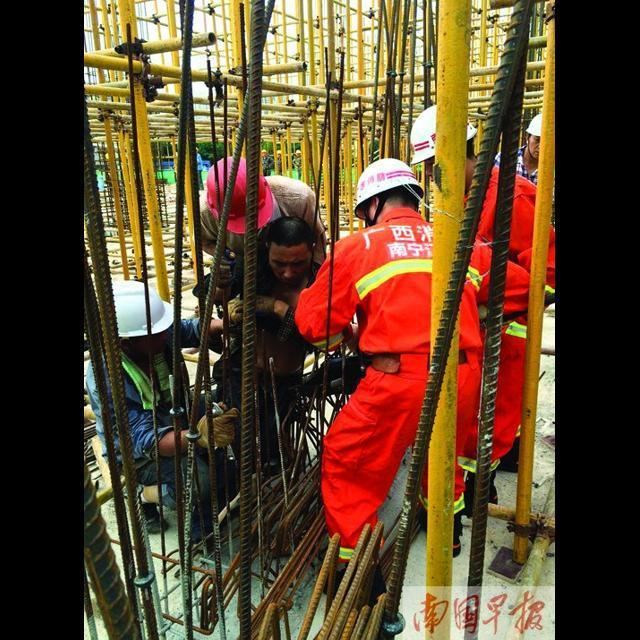helmet: (332, 138, 428, 230), (83, 258, 183, 346), (398, 94, 492, 172), (200, 150, 277, 244), (518, 83, 568, 155)
safety_vest: (288, 206, 490, 594), (430, 155, 560, 512), (80, 334, 224, 540)
